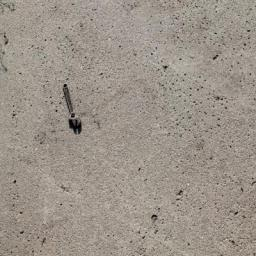FOD: (60, 81, 88, 136)
